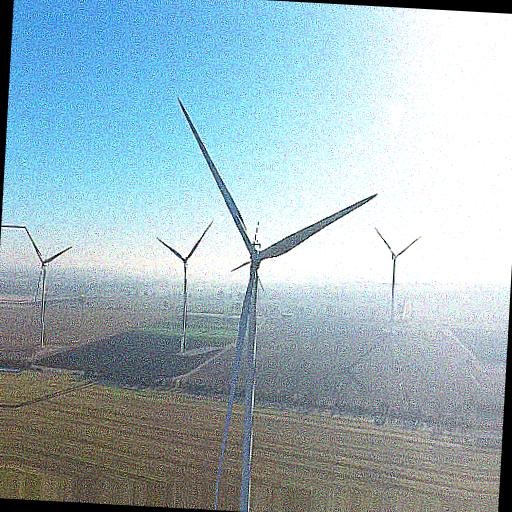wind turbine: (175, 97, 378, 512), (157, 218, 214, 355), (22, 227, 73, 347), (374, 226, 422, 319)
